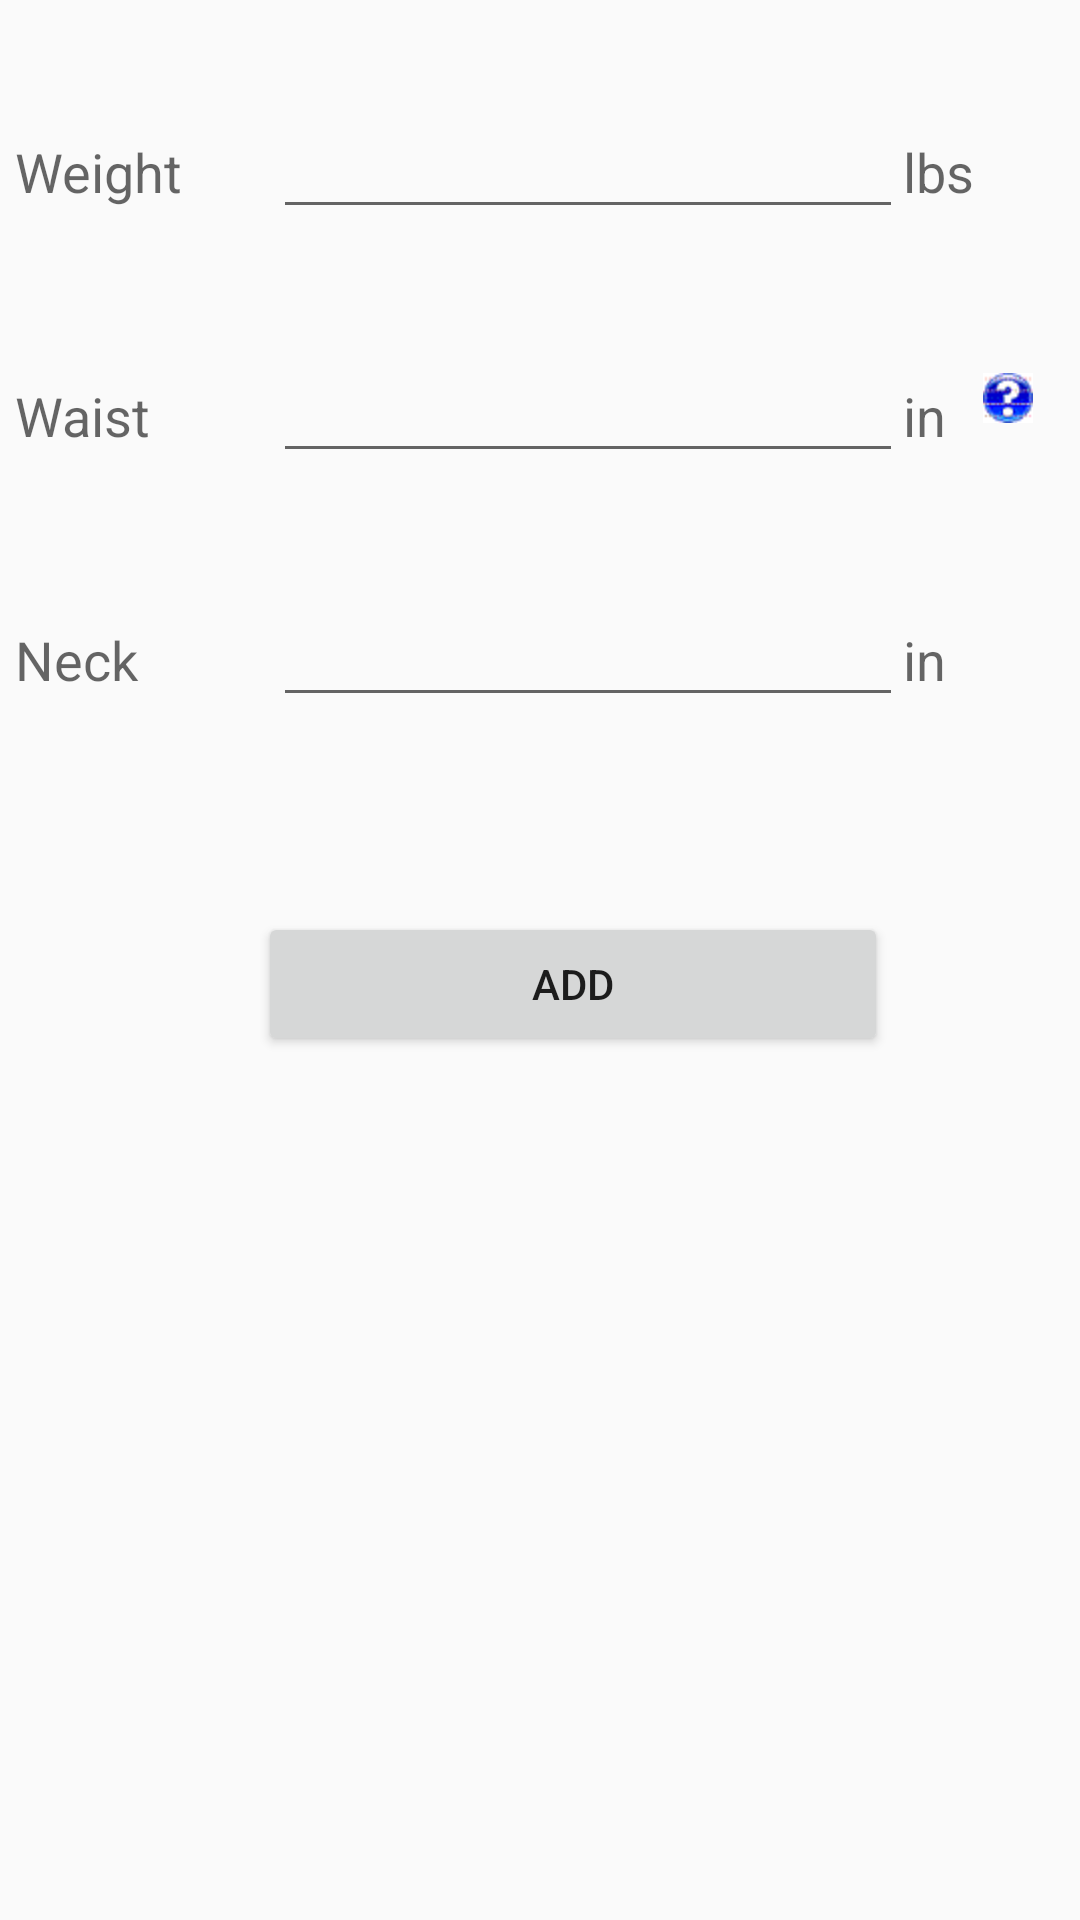

Icon click points for this 1080*1920 phone screenshot, format (x,y):
help: (1008,398)
